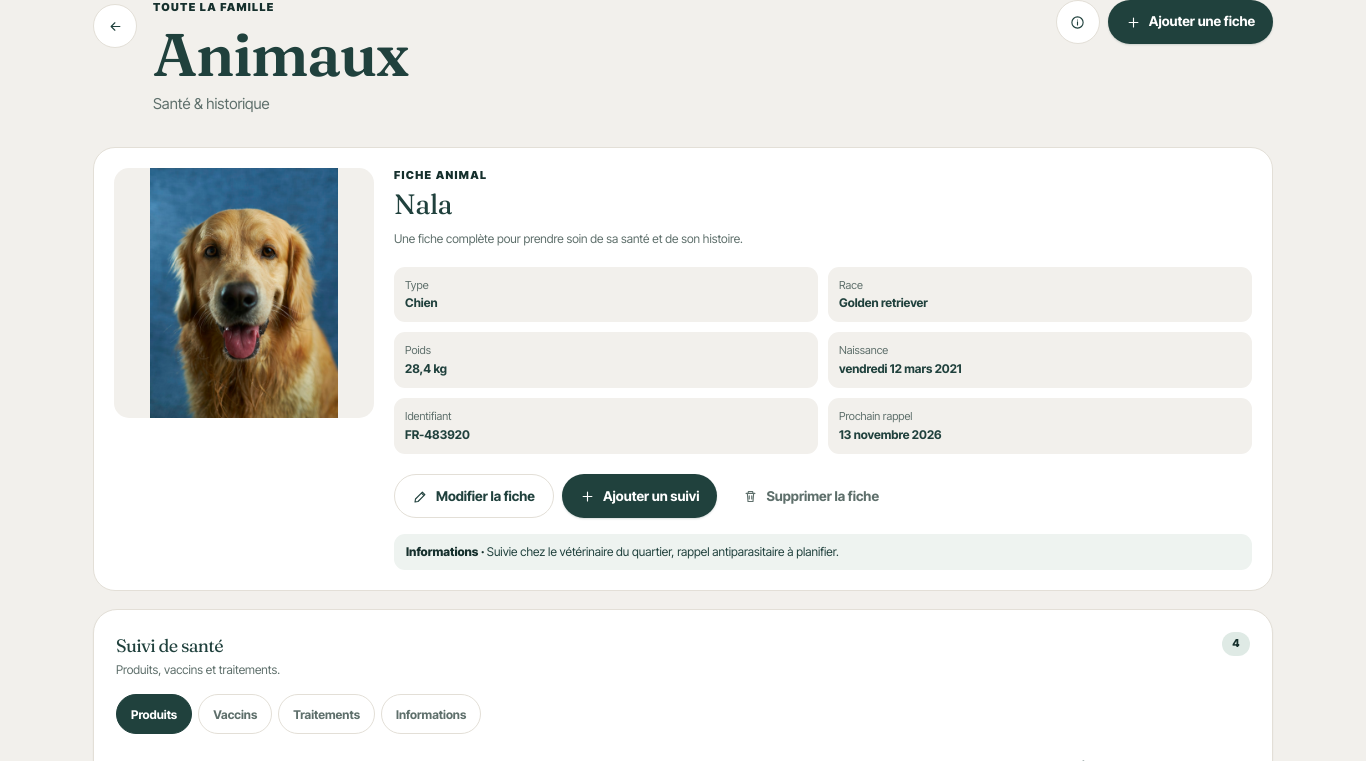
Scenario: AnimauxPage › propose de choisir une photo locale dans le dialogue de fiche
Click the button "Modifier la fiche" at (474, 496), box [394,474,554,518]
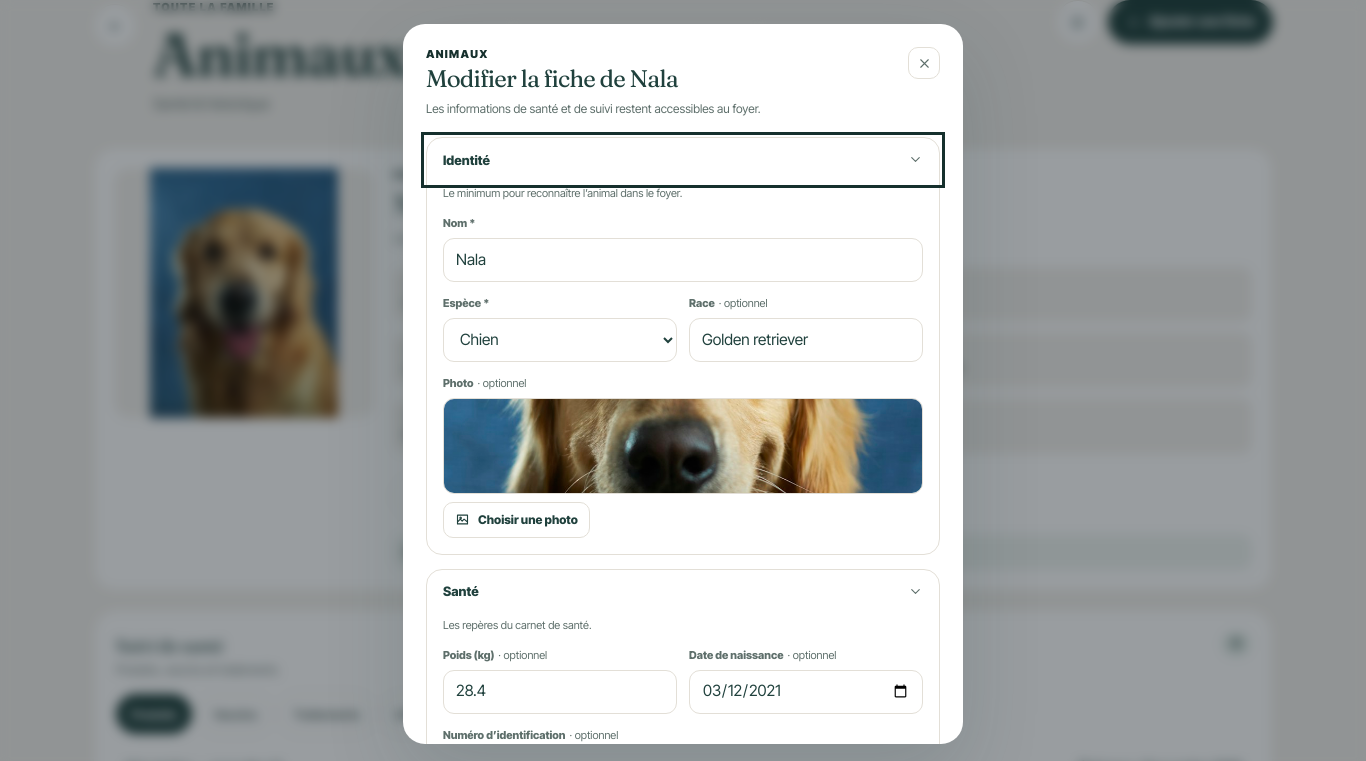
Expected: the file field labelled "Choisir une photo" is shown, [443,502,590,538]
